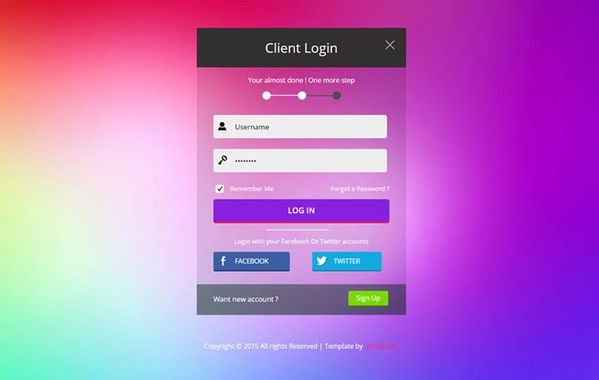_form_: (80, 1, 497, 380)
button: (212, 198, 391, 226), (212, 250, 291, 274), (311, 250, 385, 273), (348, 290, 389, 308)
checkbox: (213, 183, 225, 195)
checkbox_with_label: (211, 182, 275, 195)
field: (211, 146, 389, 175), (211, 114, 389, 141)
